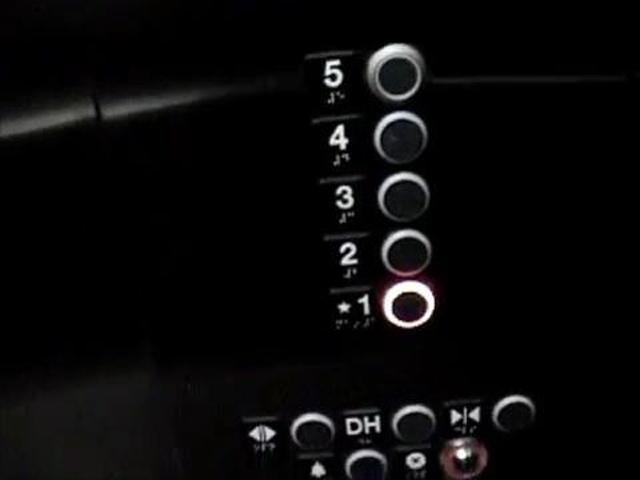2: (318, 229, 437, 282)
3: (310, 168, 434, 227)
4: (304, 108, 433, 168)
5: (299, 38, 428, 111)
alarm: (304, 446, 392, 479)
close: (440, 391, 540, 436)
open: (238, 409, 336, 454)
stop: (390, 435, 491, 479)
unknown: (322, 278, 439, 335), (339, 402, 437, 445)
